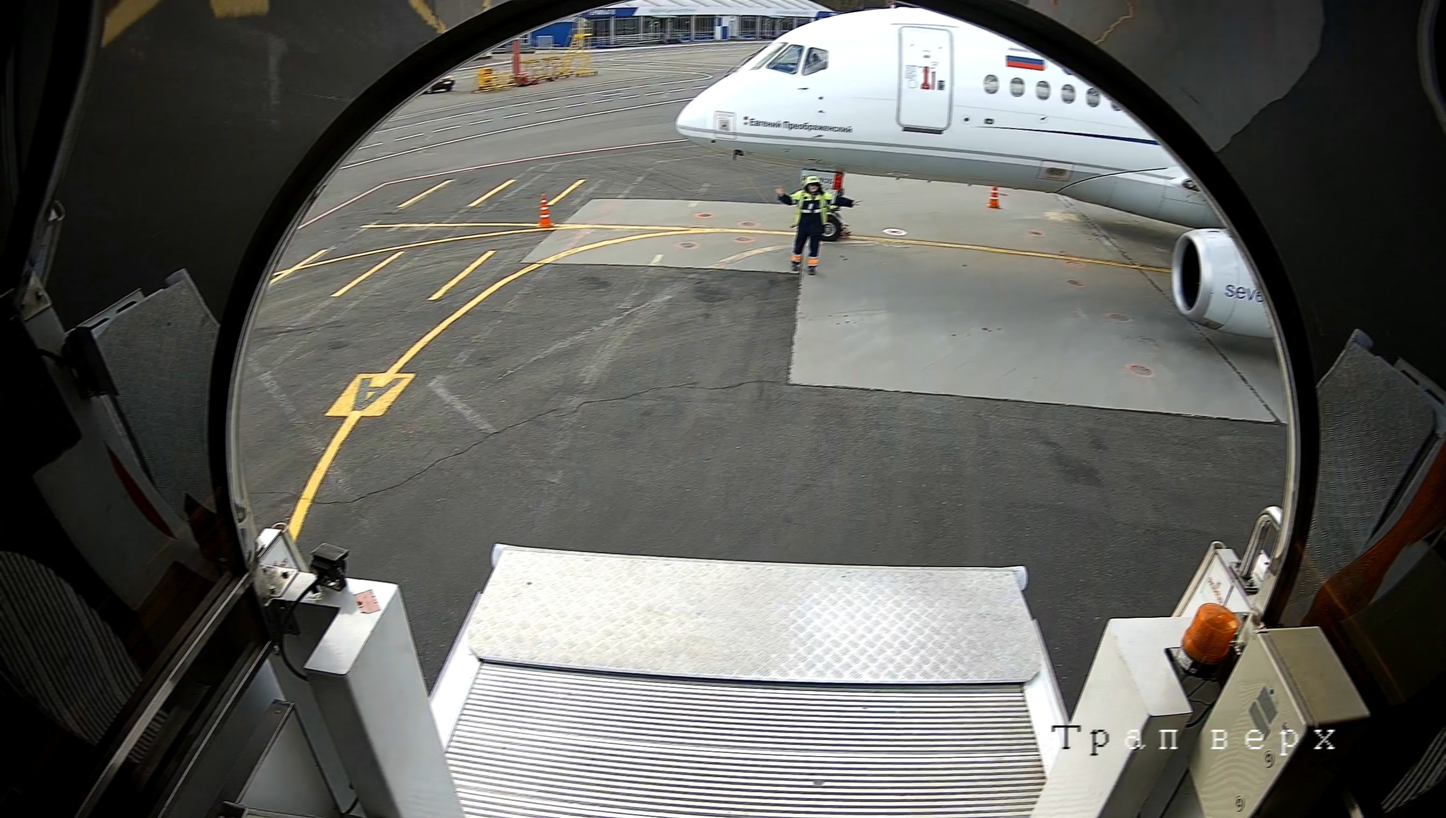boots: (836, 220, 853, 242)
wheels: (822, 211, 841, 241)
